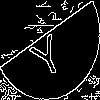Y: (25, 25, 66, 81)
